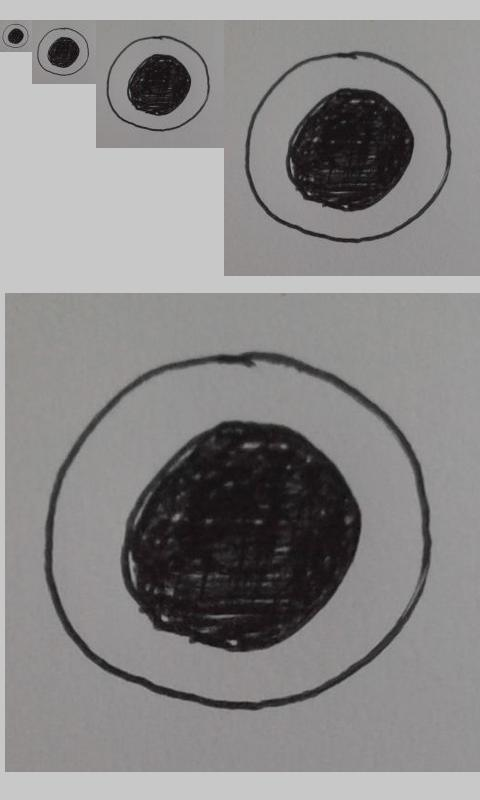radio_button: (40, 348, 434, 712), (242, 46, 454, 245), (105, 34, 211, 132), (36, 27, 90, 76), (2, 23, 29, 49)
